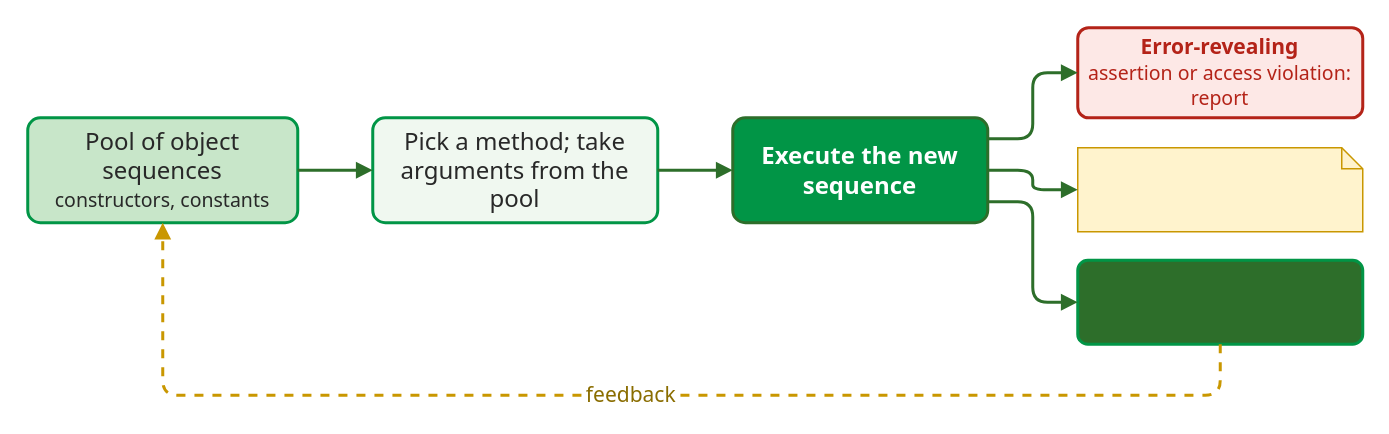
Some shapes in this 1389 by 434 pixel diagram are drawn without their labels. Each missing label, with the centre of its shape:
"Illegal bad input: discard" belongs at point 1219,189.
"New, valid keep for extension" belongs at point 1220,301.
